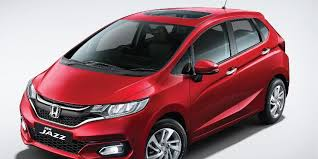Honda: (18, 7, 289, 158)
